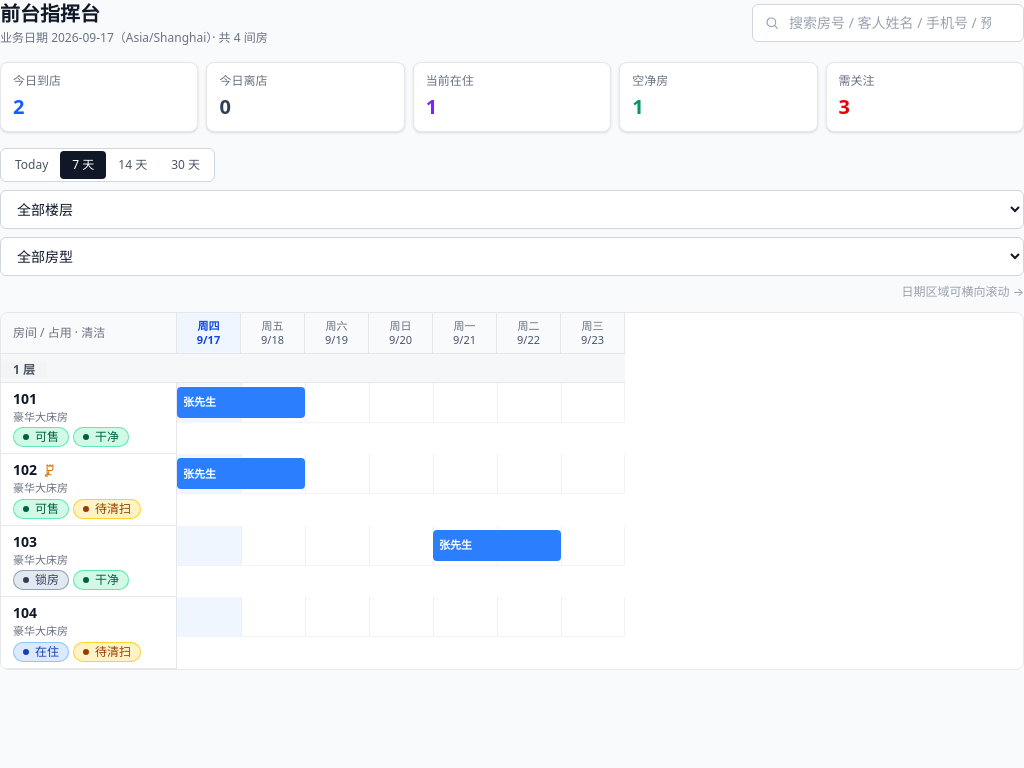
Test case: Today Summary › 卡片点击 → 右侧 Drawer 列表（今日到店），不跳离页面
The width and height of the screenshot is (1024, 768).
Check: the button "需关注 3" is shown, box [826, 62, 1023, 132]
Click the button "今日到店 2" at [99, 97], box [0, 62, 198, 132]
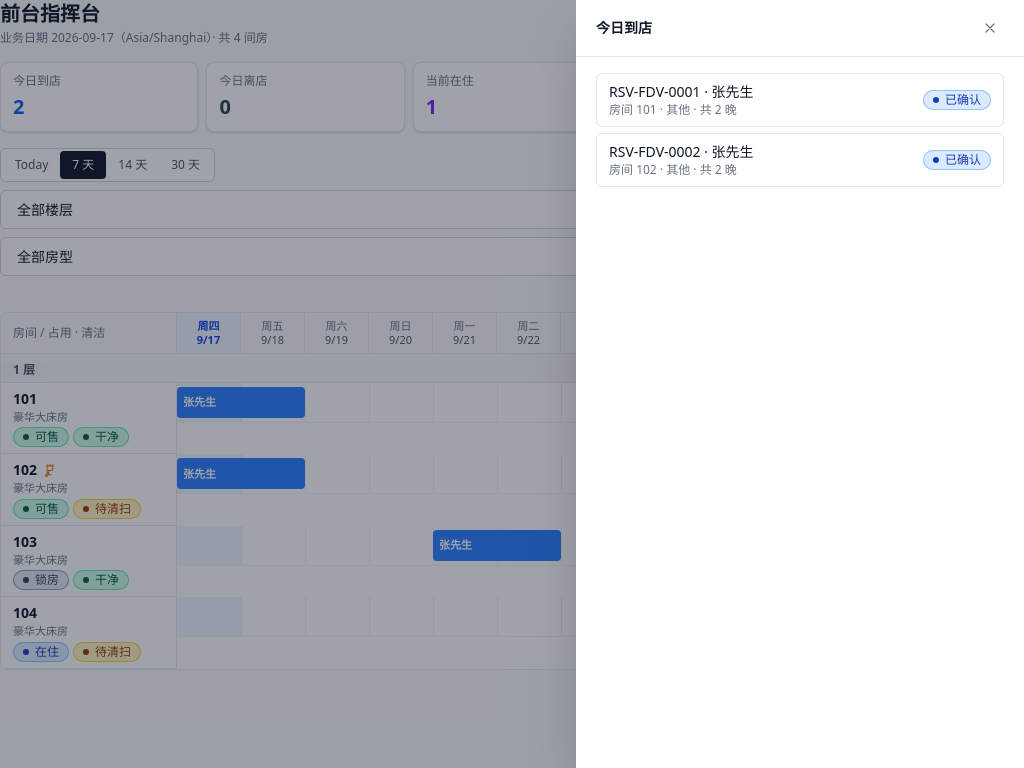
Check: the text "RSV-FDV-0001 · 张先生" is shown, box [609, 82, 754, 101]
Check: the text "RSV-FDV-0002 · 张先生" is shown, box [609, 142, 754, 161]
